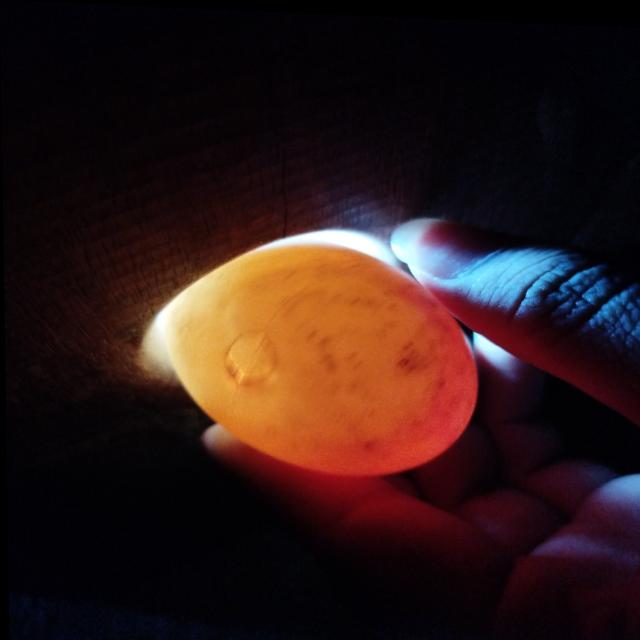Rachadura: (224, 331, 276, 384)
